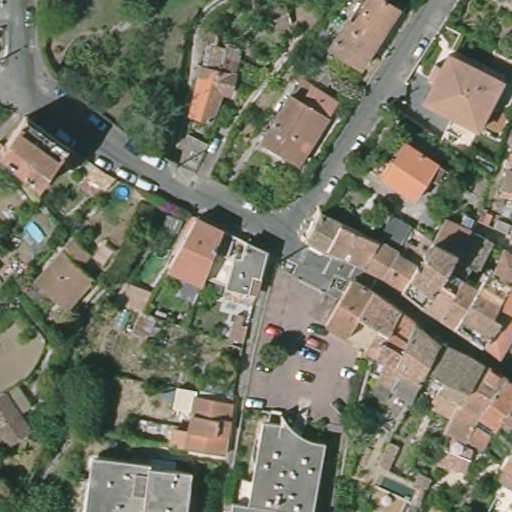pool: (18, 220, 54, 244), (109, 181, 131, 201)
